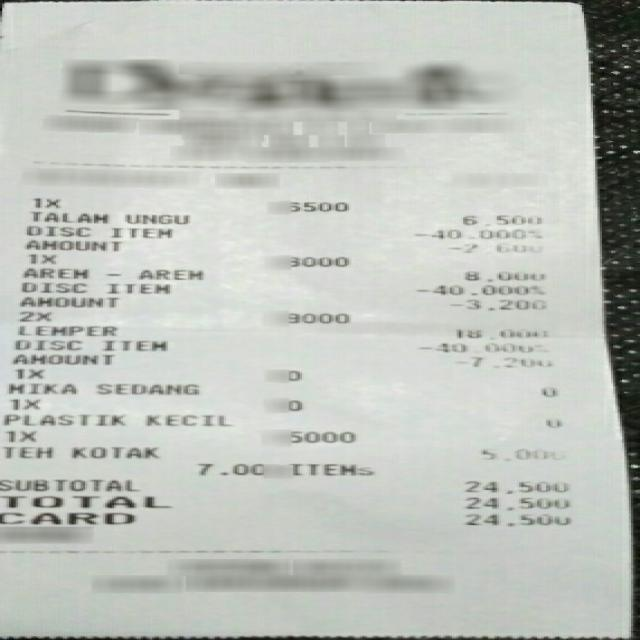text: (0, 494, 164, 507), (0, 511, 135, 526), (0, 478, 135, 491), (461, 479, 564, 494), (416, 341, 537, 352), (20, 237, 114, 251), (11, 324, 114, 336), (96, 383, 199, 395), (461, 496, 564, 508), (461, 513, 564, 525), (448, 296, 542, 309), (0, 414, 119, 424), (450, 354, 548, 366), (412, 284, 542, 293), (7, 353, 112, 364), (412, 228, 532, 237), (450, 328, 546, 339), (477, 446, 555, 459), (146, 414, 230, 426), (22, 210, 103, 222), (16, 296, 112, 306), (70, 446, 154, 457), (289, 463, 369, 474), (446, 242, 542, 251), (461, 270, 537, 281), (284, 312, 349, 324), (20, 225, 87, 236), (105, 281, 166, 293), (18, 267, 83, 278), (284, 430, 349, 441), (110, 225, 168, 237), (197, 463, 260, 474), (461, 214, 537, 223), (2, 383, 72, 392), (121, 213, 183, 223), (132, 268, 199, 277), (9, 339, 74, 348), (288, 200, 344, 210), (18, 281, 80, 290), (99, 339, 161, 348), (0, 446, 47, 457), (284, 256, 342, 264), (4, 429, 32, 441), (16, 310, 47, 319), (9, 398, 36, 408), (280, 369, 302, 381), (29, 196, 54, 206), (9, 368, 36, 377), (25, 253, 49, 262), (282, 400, 300, 412), (540, 385, 558, 395), (542, 418, 562, 427)
